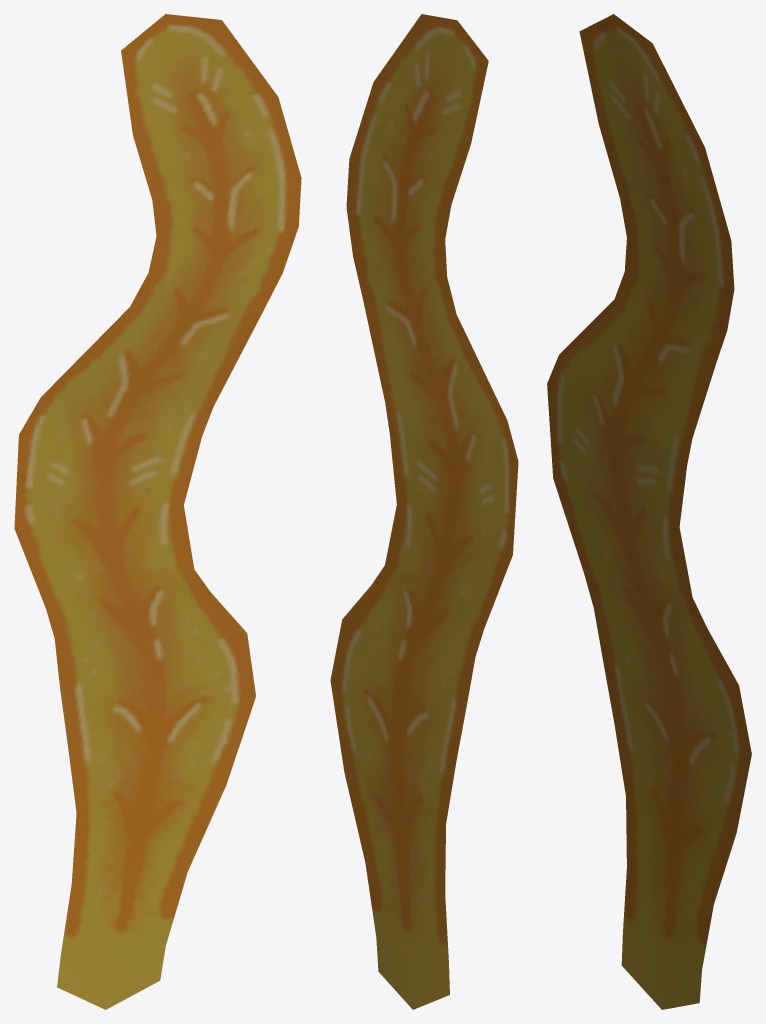
File: Seaweed_Orange_002.fbx
The picture shows the model from 3 angles, left to right: view 1: azimuth 30°, elevation 25°; view 2: azimuth 150°, elevation 25°; view 3: azimuth 330°, elevation 25°; orthographic projection. The views are drawn at different scales.
Parts seen in each view (by area): view 1: Seaweed_Orange_002; view 2: Seaweed_Orange_002; view 3: Seaweed_Orange_002.
Part boxes in pixels (bbox=[...]): Seaweed_Orange_002: bbox=[14, 14, 301, 1009]; Seaweed_Orange_002: bbox=[330, 14, 518, 1009]; Seaweed_Orange_002: bbox=[547, 14, 751, 1009].
Size of the model in its own units: 8.33 by 35.29 by 4.28.
